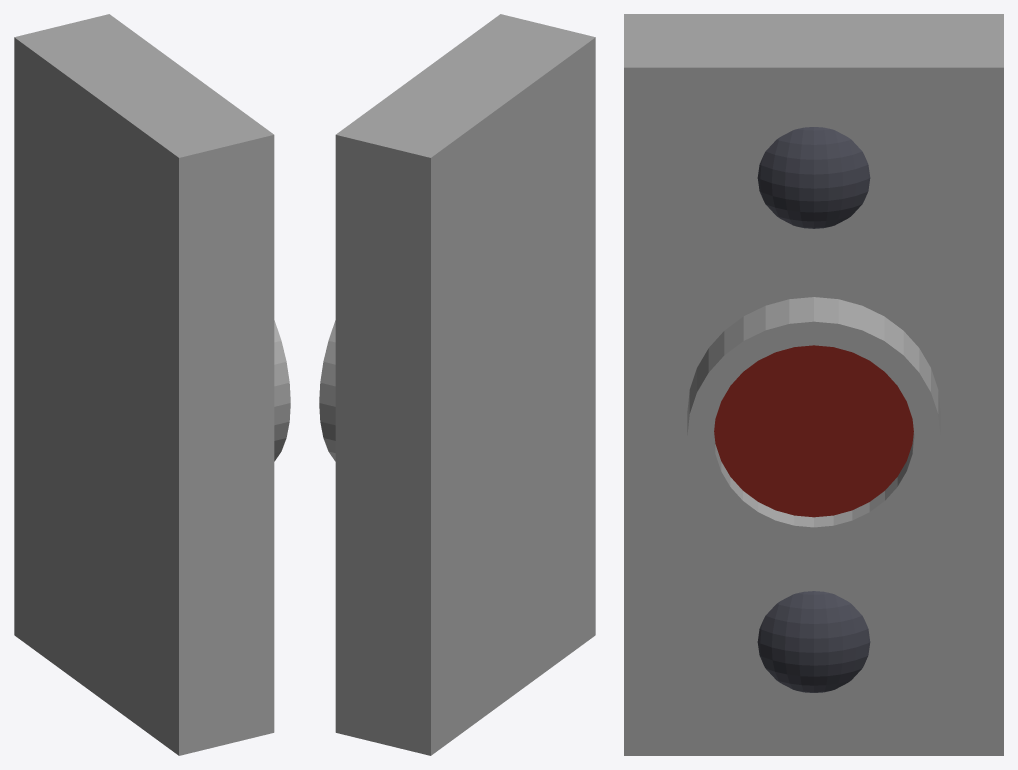
Rendered from elevator_button.fbx.
The picture shows the model from 3 angles, left to right: view 1: azimuth 30°, elevation 25°; view 2: azimuth 150°, elevation 25°; view 3: azimuth 270°, elevation 25°; orthographic projection. The views are drawn at different scales.
Visible parts, largest first — view 1: Cube; view 2: Cube; view 3: Cube, Up_light, Down_light.
Boxes of the visible parts, box(x1,y1,x2,y2) form: Cube: box(14, 14, 290, 755); Cube: box(319, 14, 595, 755); Cube: box(624, 14, 1003, 755); Up_light: box(757, 127, 870, 228); Down_light: box(757, 591, 870, 692).
Size of the model in its own units: 7.31 by 30 by 15.
